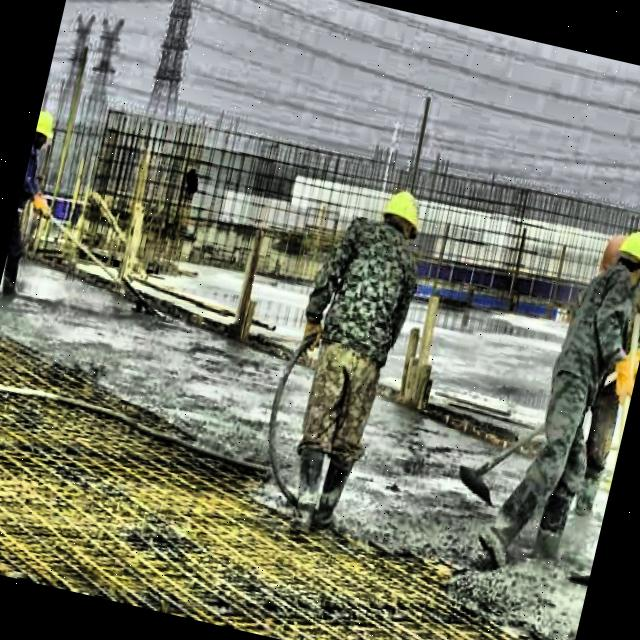helmet: (370, 180, 432, 256), (602, 223, 640, 296), (32, 108, 58, 153)
